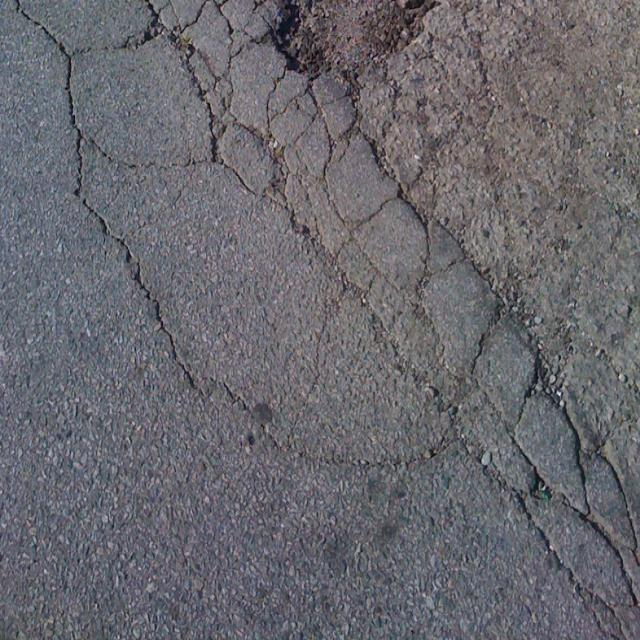Drain Hole: (116, 3, 640, 636)
